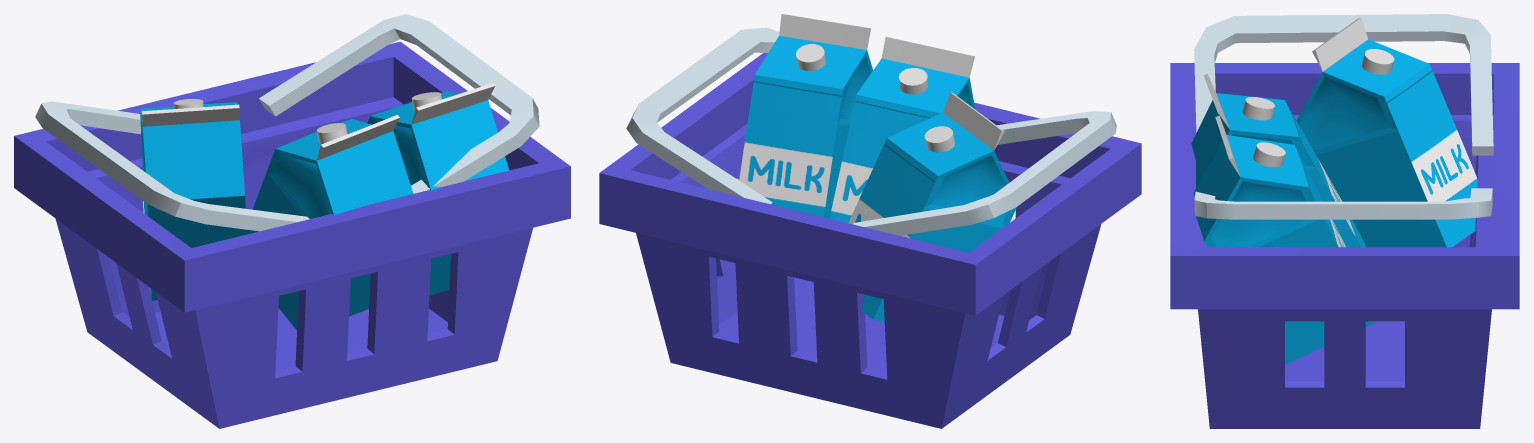
The model's file is MilkCart.fbx.
3 views of the same model, side by side, from view 1: azimuth 30°, elevation 25°; view 2: azimuth 150°, elevation 25°; view 3: azimuth 270°, elevation 25° (orthographic). The views are drawn at different scales.
Visible parts, largest first — view 1: polySurface4, sut3; view 2: polySurface4, sut3; view 3: polySurface4, sut3.
Boxes of the visible parts, <box> form: polySurface4: <box>14,14,570,428</box>; sut3: <box>140,83,509,329</box>; polySurface4: <box>599,27,1141,428</box>; sut3: <box>739,14,1016,322</box>; polySurface4: <box>1170,14,1519,428</box>; sut3: <box>1191,18,1477,364</box>.
Size of the model in its own units: 14.71 by 9.63 by 11.06.
